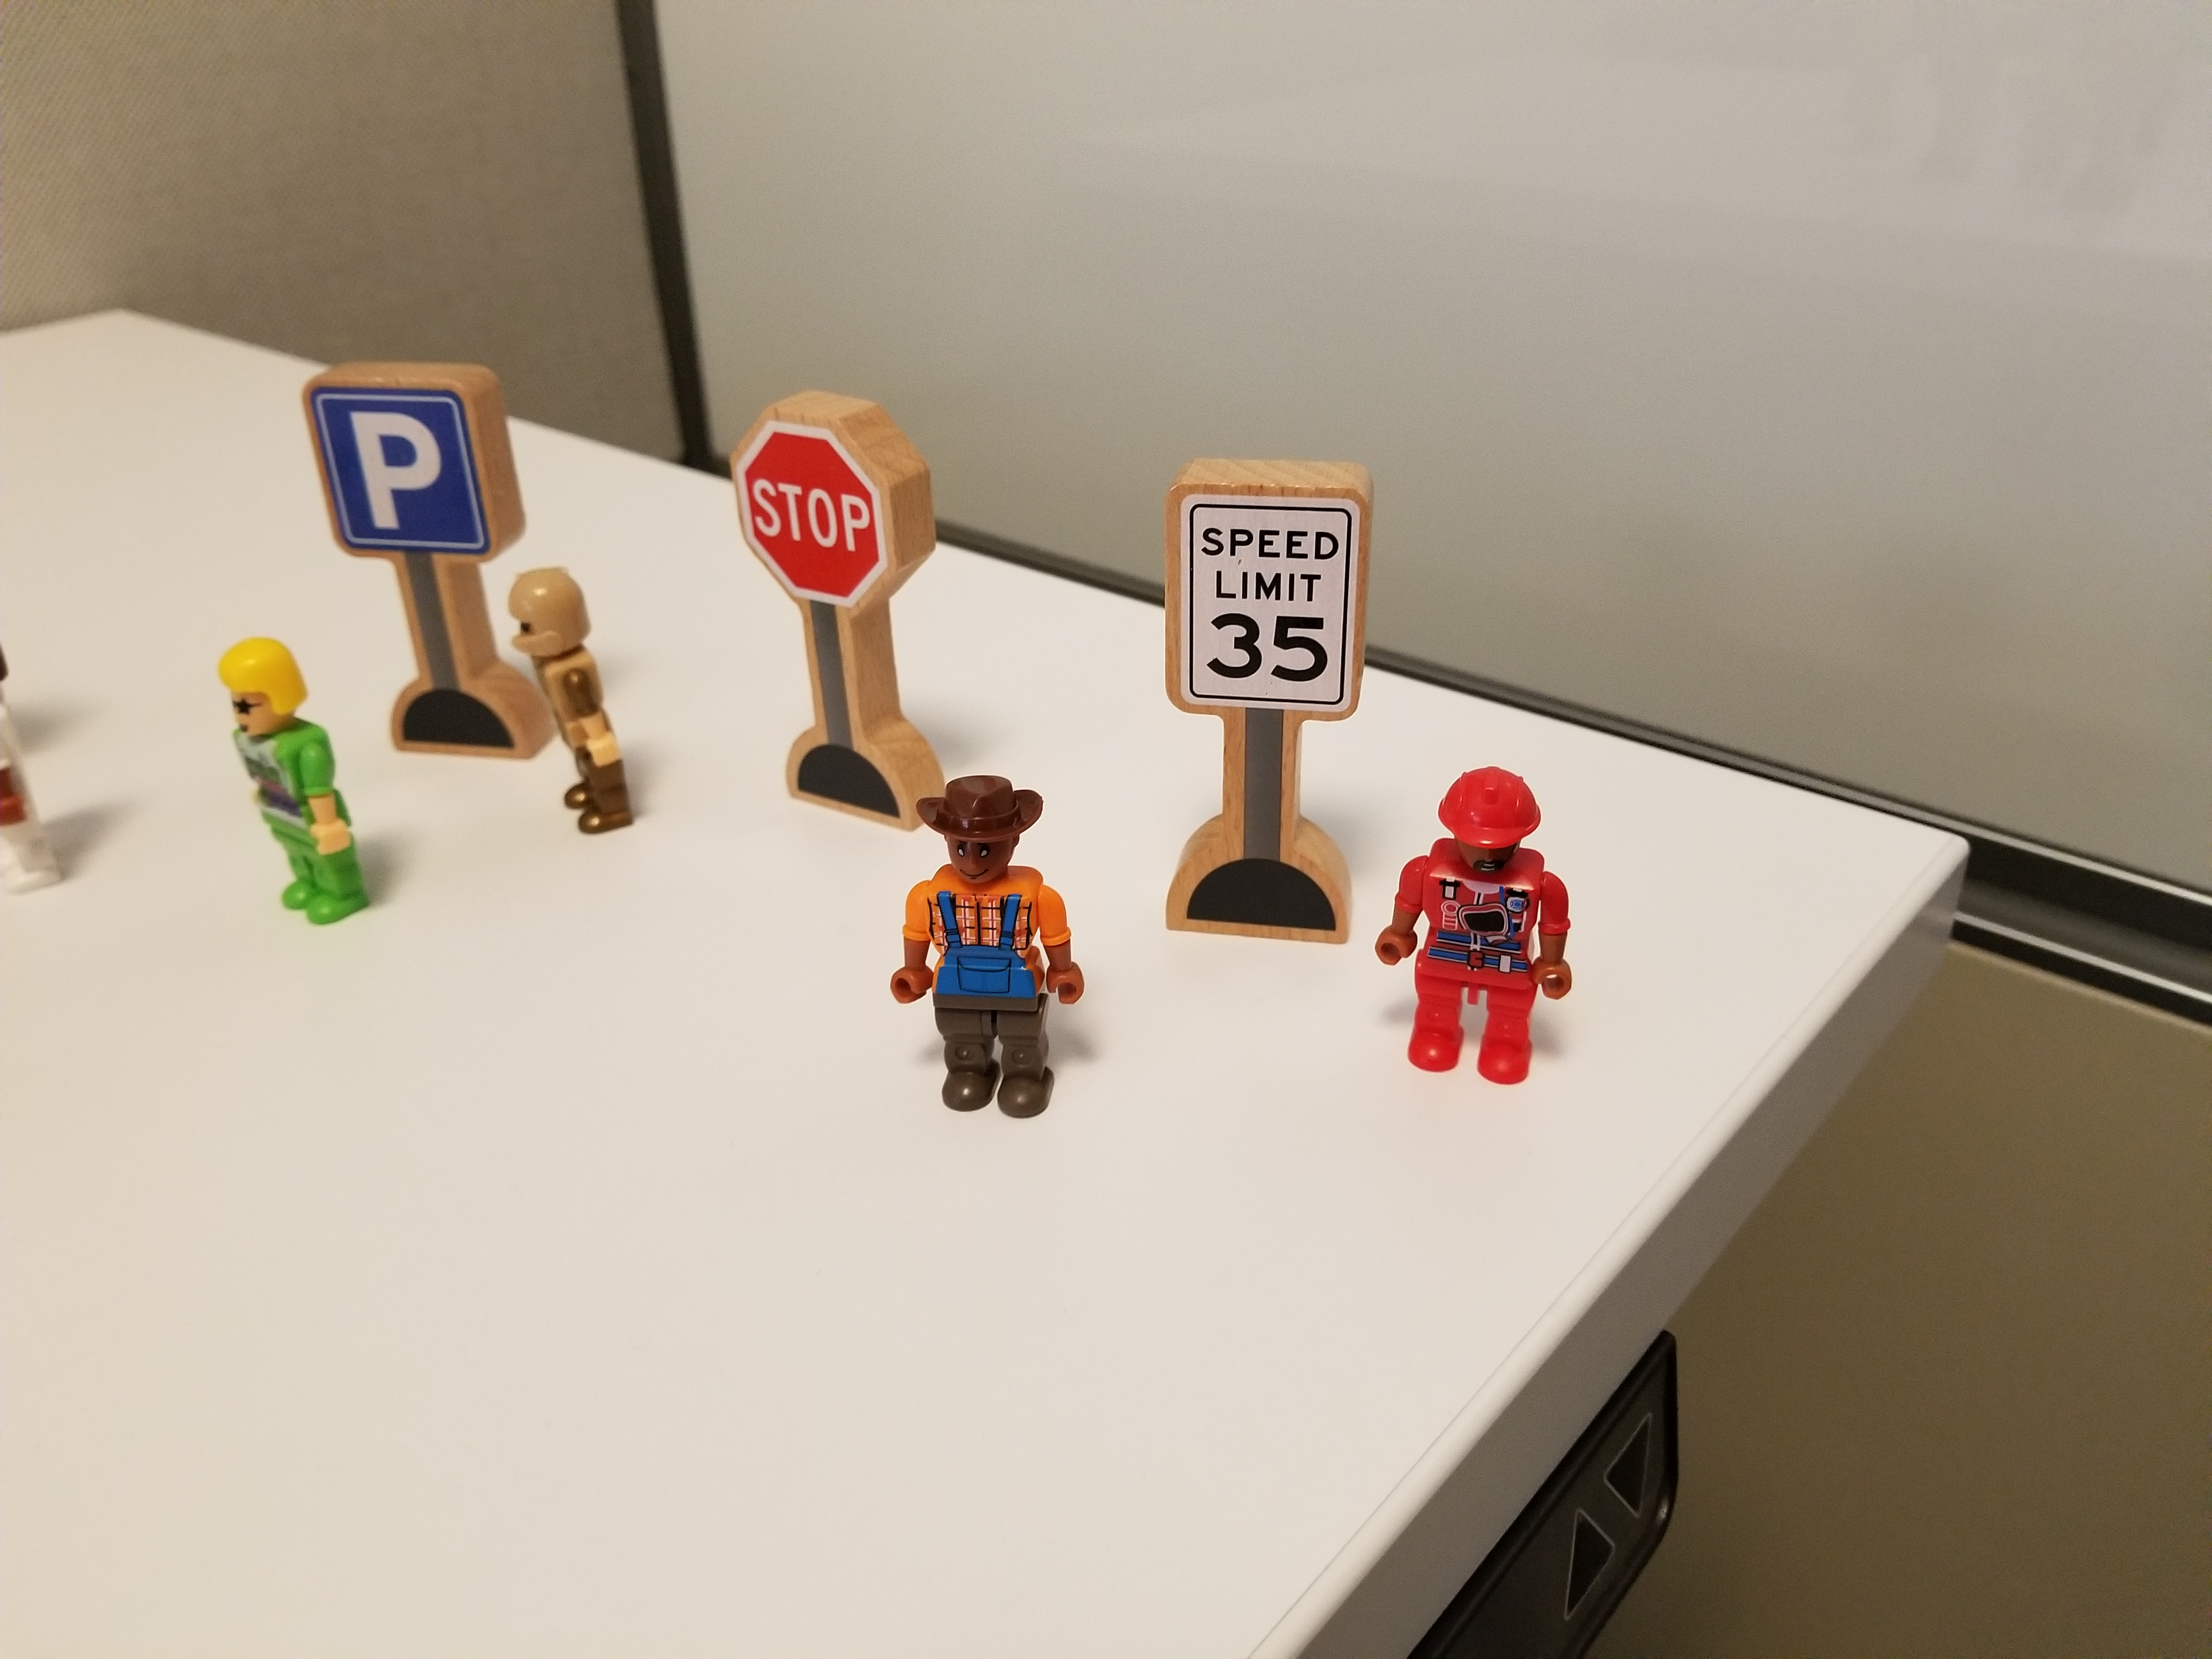Parking: (282, 350, 576, 563)
Speed limit 35: (1149, 440, 1397, 973)
Stop: (697, 363, 951, 736)
person: (872, 763, 1120, 1149), (1379, 734, 1621, 1118), (207, 622, 374, 927), (493, 550, 659, 855)
